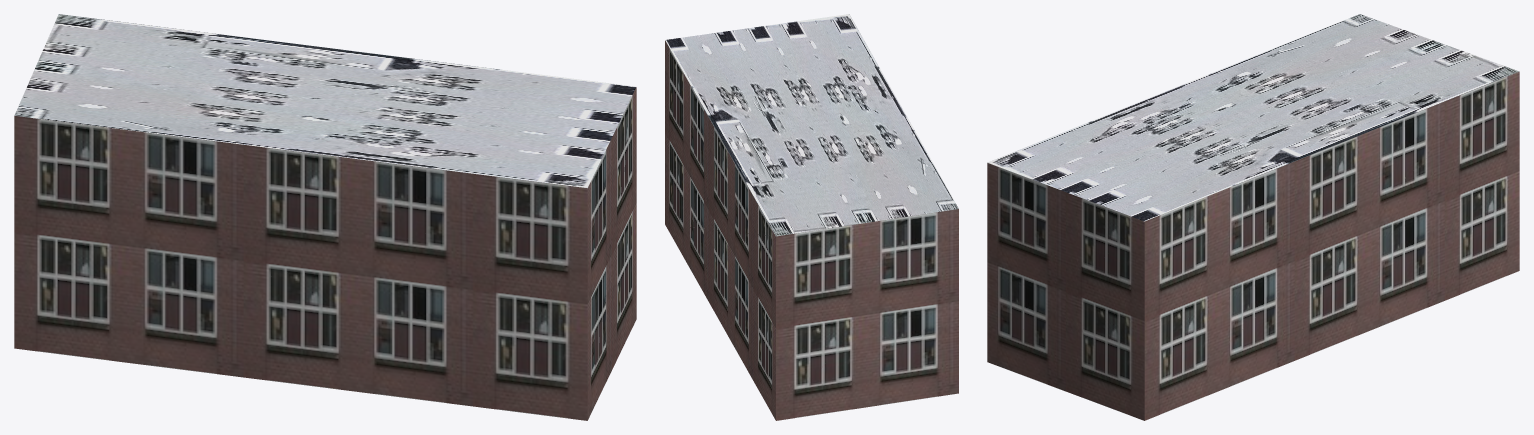
The model's file is ResTex__1284.fbx.
The picture shows the model from 3 angles, left to right: view 1: azimuth 30°, elevation 25°; view 2: azimuth 150°, elevation 25°; view 3: azimuth 270°, elevation 25°; orthographic projection. The views are drawn at different scales.
Parts seen in each view (by area): view 1: CityEngineMaterial_12_m, CityEngineMaterial_m; view 2: CityEngineMaterial_12_m, CityEngineMaterial_m; view 3: CityEngineMaterial_12_m, CityEngineMaterial_m.
Boxes of the visible parts, x1,y1,x2,y2 form: CityEngineMaterial_12_m: (14, 87, 636, 420); CityEngineMaterial_m: (14, 14, 636, 188); CityEngineMaterial_12_m: (665, 40, 958, 420); CityEngineMaterial_m: (665, 14, 958, 236); CityEngineMaterial_12_m: (987, 71, 1519, 420); CityEngineMaterial_m: (987, 14, 1519, 221).
Bounding box in the file's own units: 13.4 × 6 × 14.52.
Materials: 2 (2 with a texture image).
